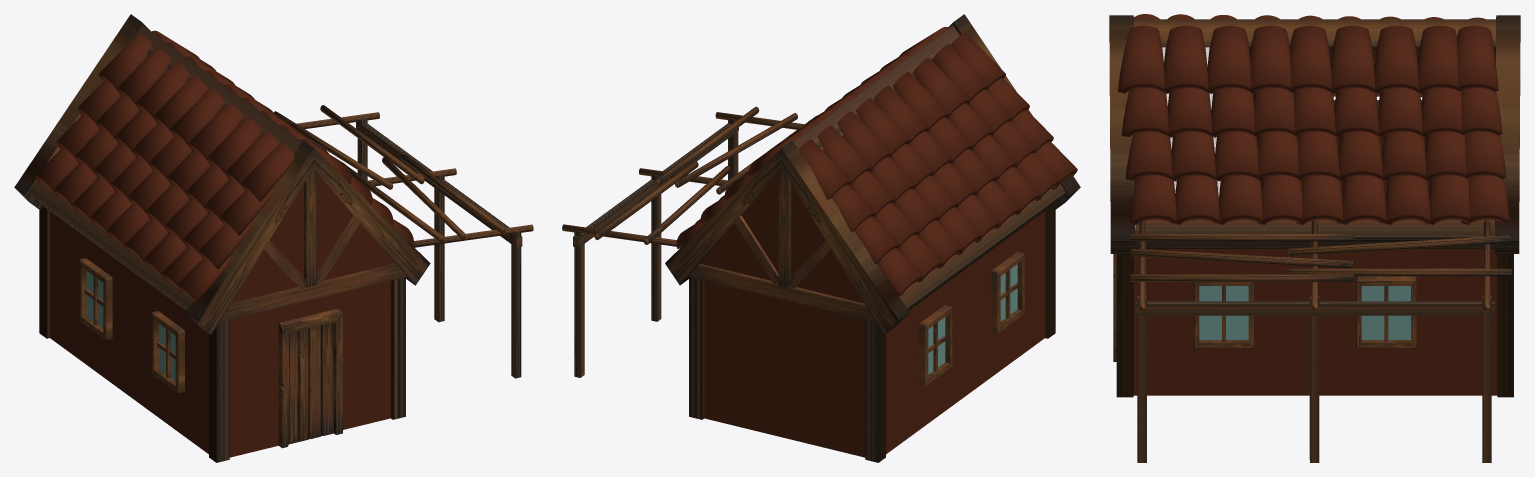
The model's file is SM_House_06.fbx.
3 renders of one model, left to right at view 1: azimuth 30°, elevation 25°; view 2: azimuth 150°, elevation 25°; view 3: azimuth 270°, elevation 25°, orthographic. The views are drawn at different scales.
Parts seen in each view (by area): view 1: Plane.011; view 2: Plane.011; view 3: Plane.011.
Boxes of the visible parts, x1,y1,x2,y2 form: Plane.011: (14,14,533,462); Plane.011: (562,14,1080,462); Plane.011: (1109,14,1520,462).
Size of the model in its own units: 695 by 556 by 628.
Materials: 2 (1 with a texture image).
